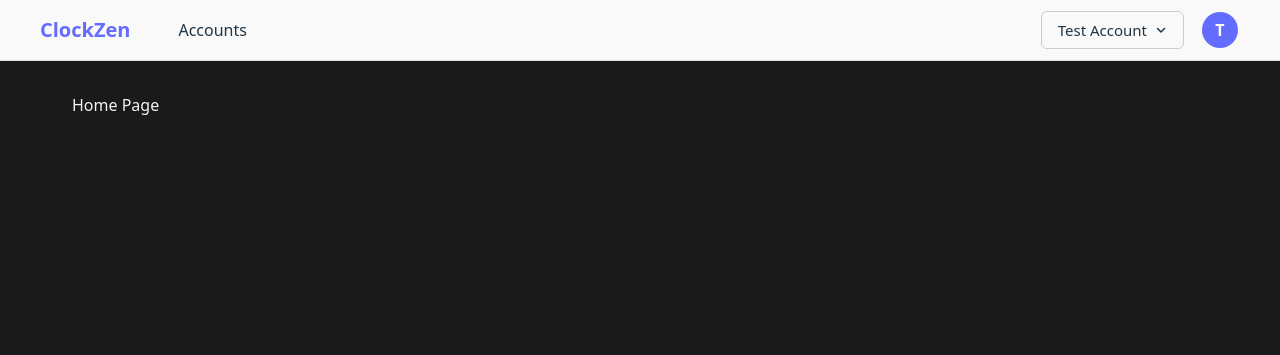
it: Layout › User Menu › closes menu when menu item is clicked
Click the button with class "user-menu-trigger" at (1220, 30), box 1200,10 -> 1240,50
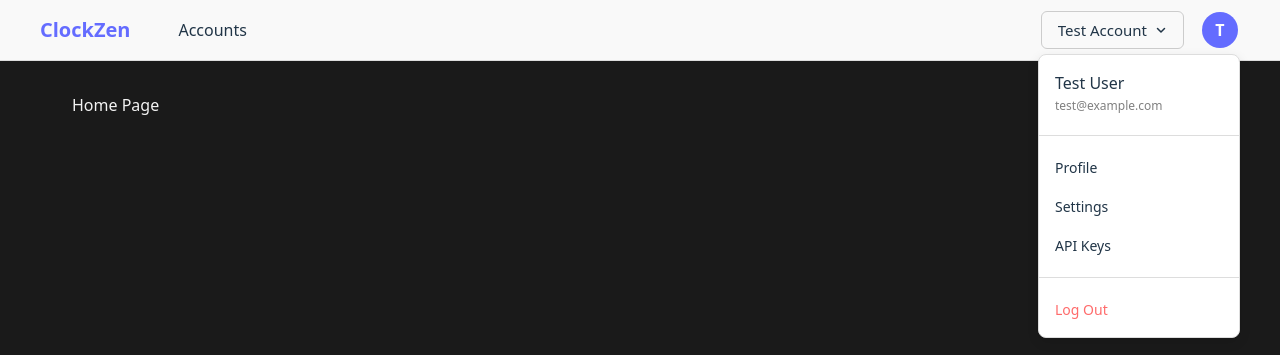
Click the menu item "Profile" at (1139, 168), box 1039,148 -> 1239,187
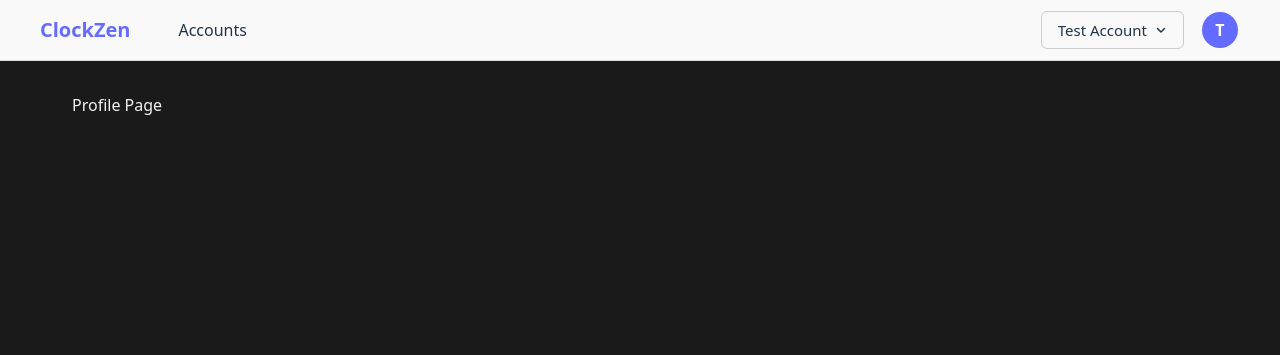
Result: the menu item "Log Out" is gone
